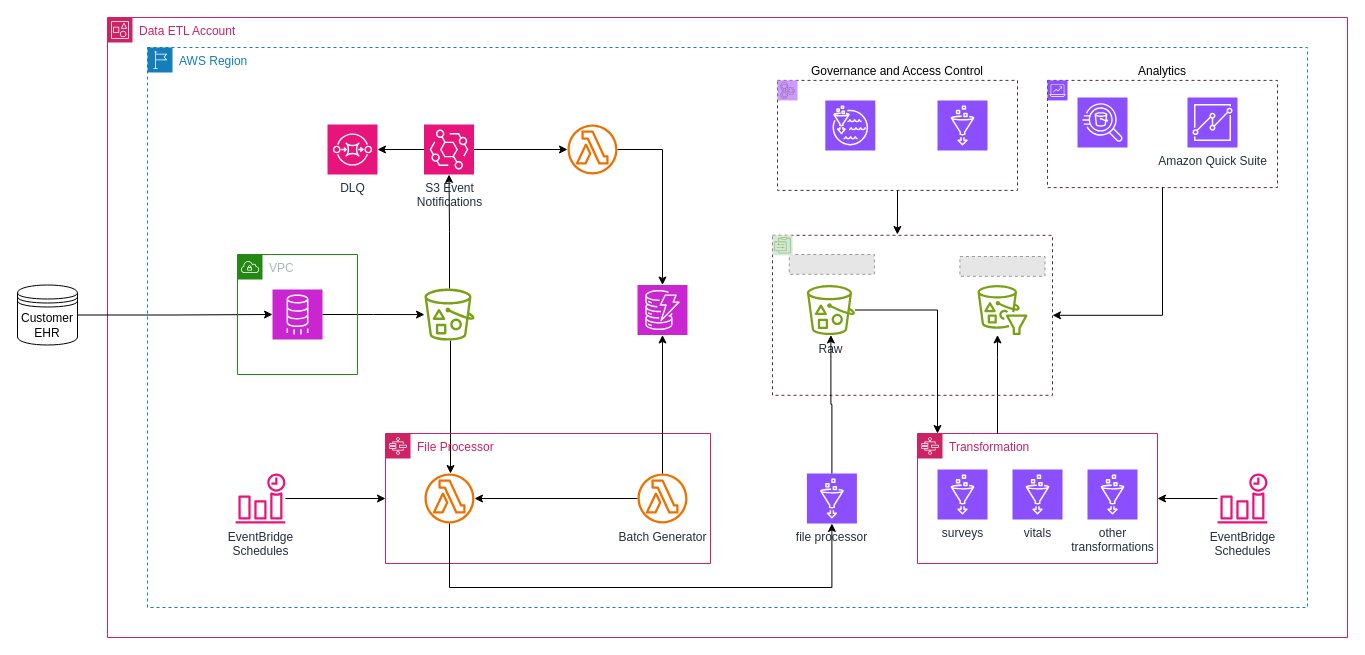
Image size: 1365x655. Some labels were removed from this diagram. Grey dashed boxes stand in for pictures. The box of each missing label's shape, as (x1, y1, x2, y2) in pixels:
Amazon Athena Queries: (1076, 96, 1128, 148)
AWS DMS: (272, 288, 322, 340)
AWS Glue Catalog: (936, 99, 988, 150)
AWS Lake Formation Data Governance: (824, 99, 875, 150)
Curated: (977, 284, 1027, 334)
Data Flow Management DynamoDB: (636, 284, 688, 335)
Data Lake: (772, 234, 1052, 395)
File Manager: (567, 124, 617, 174)
File Processor Trigger: (424, 473, 474, 523)
Staging: (424, 288, 474, 340)
